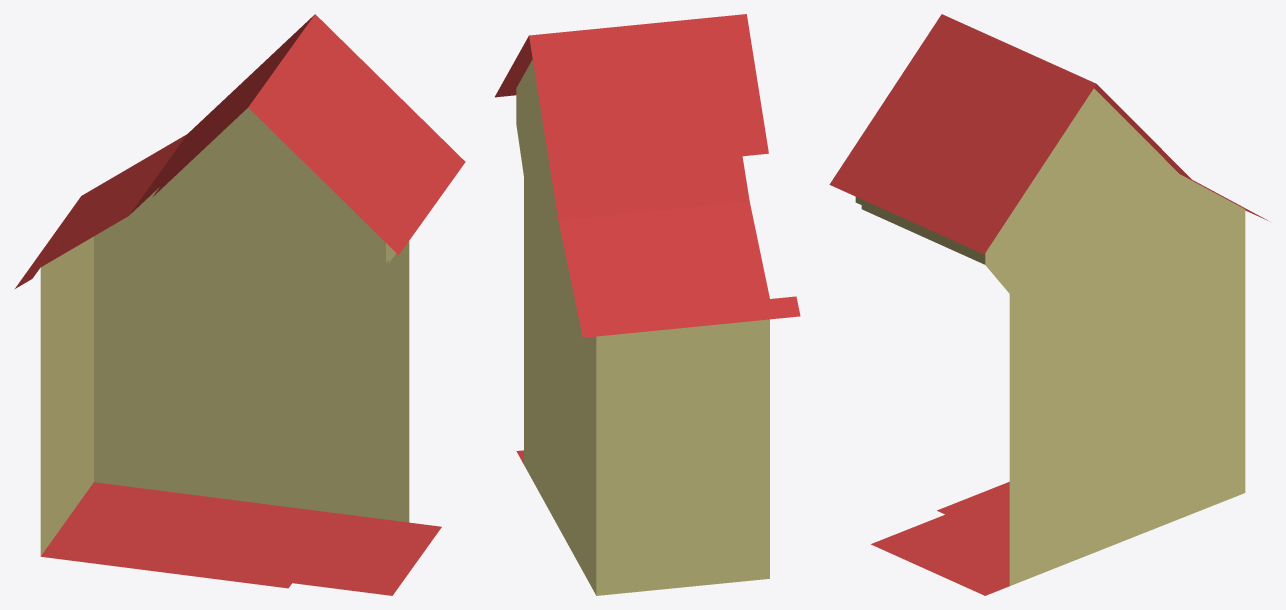
3 renders of one model, left to right at view 1: azimuth 30°, elevation 25°; view 2: azimuth 150°, elevation 25°; view 3: azimuth 270°, elevation 25°, orthographic. The views are drawn at different scales.
Size of the model in its own units: 11.74 by 11.95 by 14.27.
